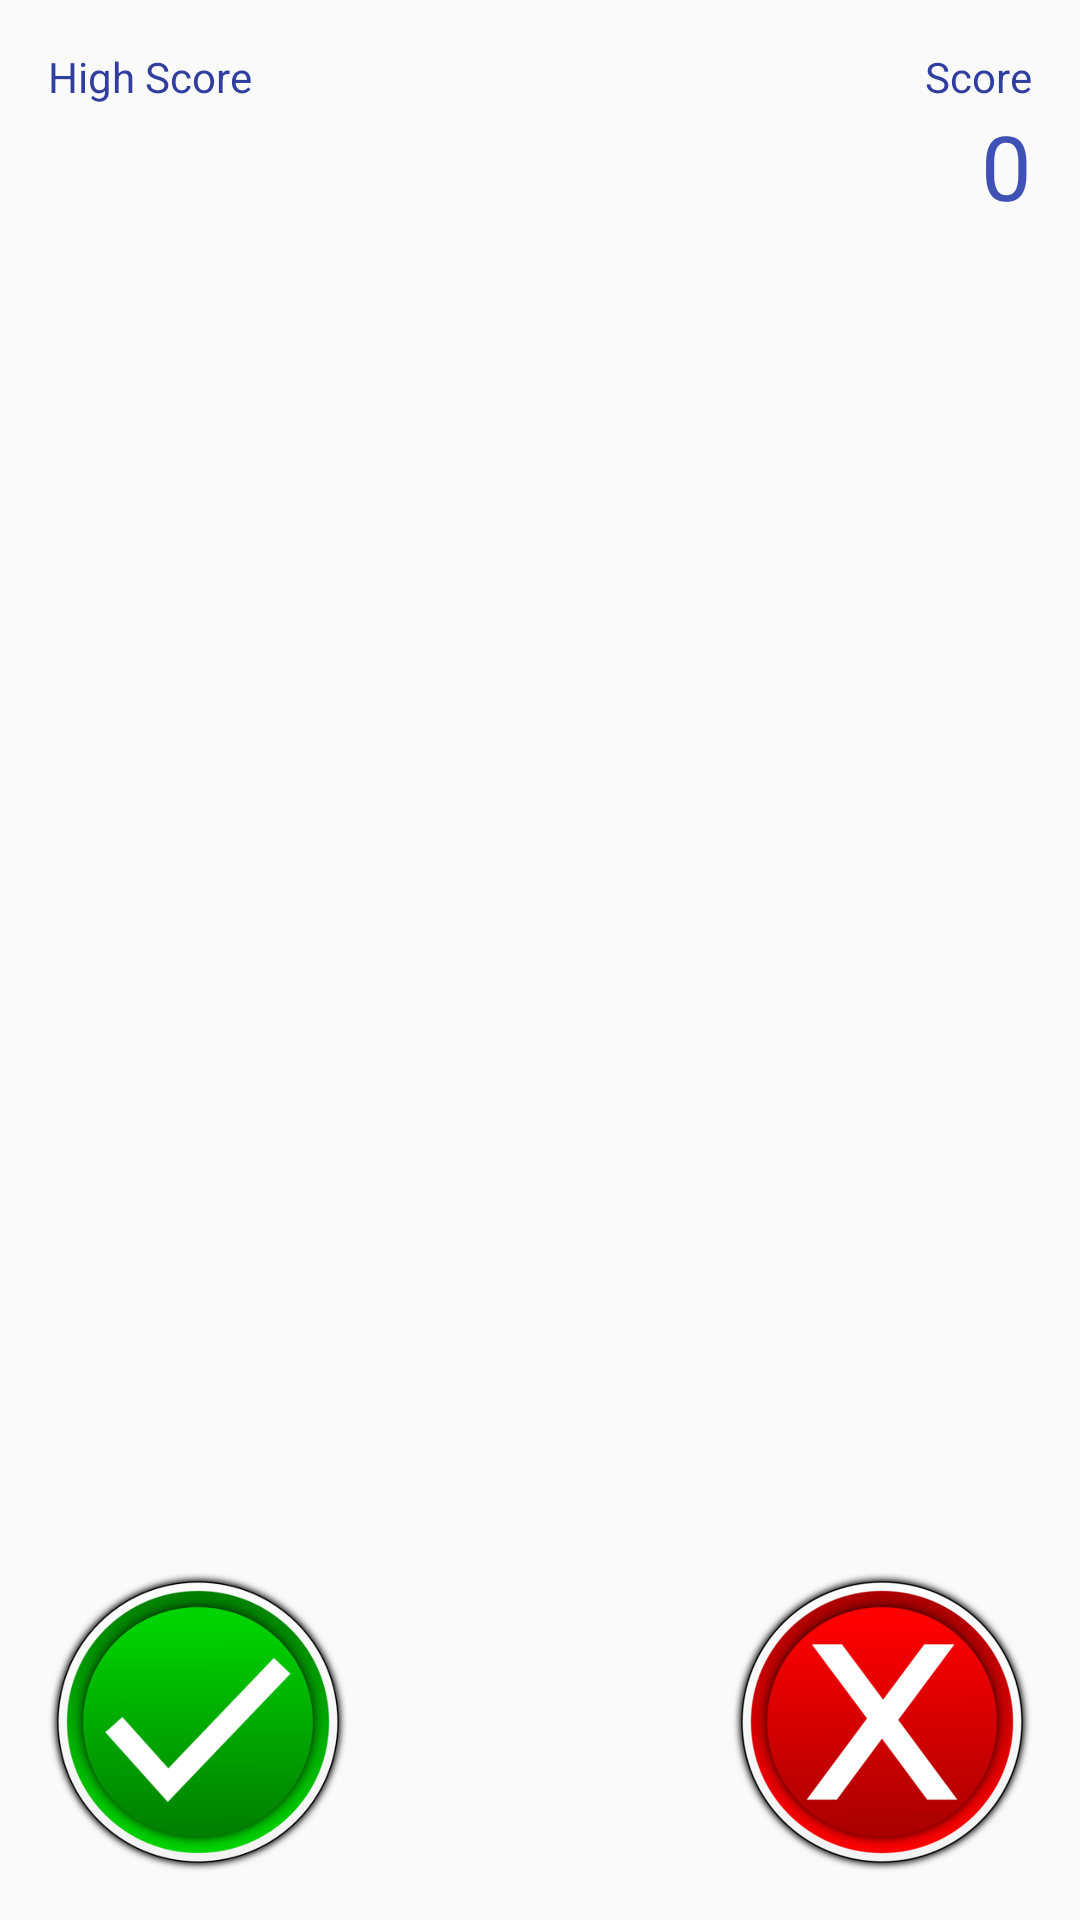

Named icons in this screenshot (1080w x 1920h) and their bounding boxes, [x1, y1, x2, y2]:
right: [51, 1575, 345, 1869]
wrong: [735, 1575, 1029, 1869]
